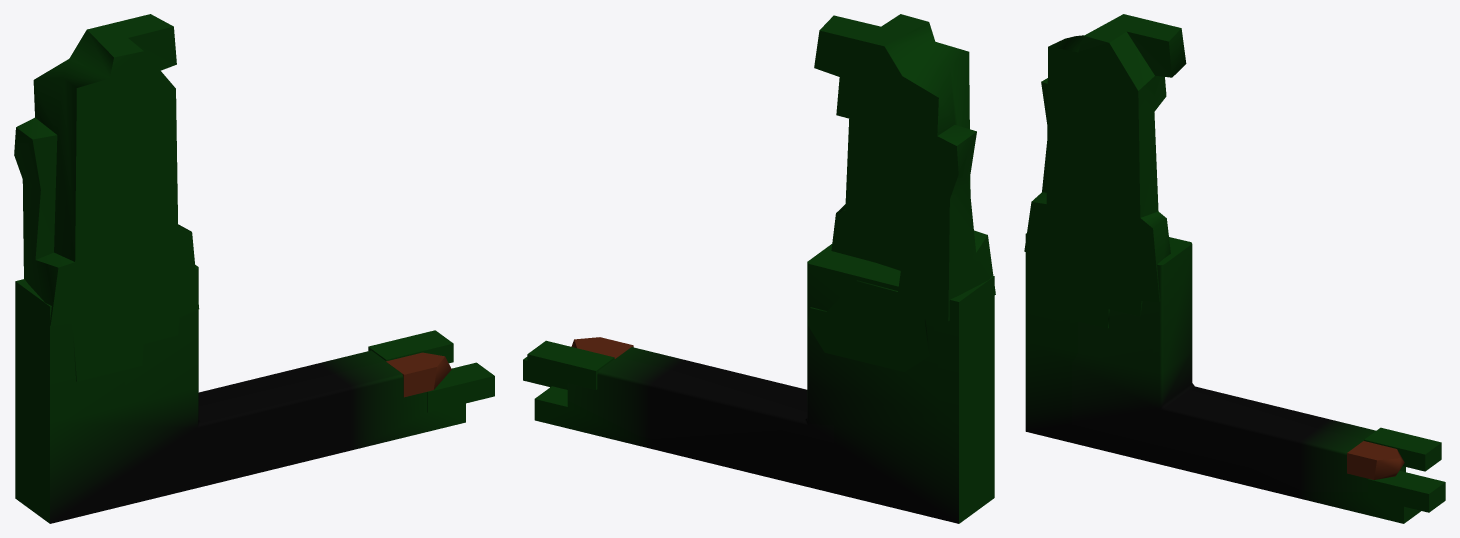
The model's file is DBK_Brick_WinBig_End.fbx.
The picture shows the model from 3 angles, left to right: view 1: azimuth 30°, elevation 25°; view 2: azimuth 150°, elevation 25°; view 3: azimuth 330°, elevation 25°; orthographic projection. The views are drawn at different scales.
Parts seen in each view (by area): view 1: DBK_Brick_WinBig_End; view 2: DBK_Brick_WinBig_End; view 3: DBK_Brick_WinBig_End.
Boxes of the visible parts, x1,y1,x2,y2 form: DBK_Brick_WinBig_End: (14,14,494,523); DBK_Brick_WinBig_End: (523,14,995,523); DBK_Brick_WinBig_End: (1024,14,1445,523).
Size of the model in its own units: 148 by 143 by 21.37.
